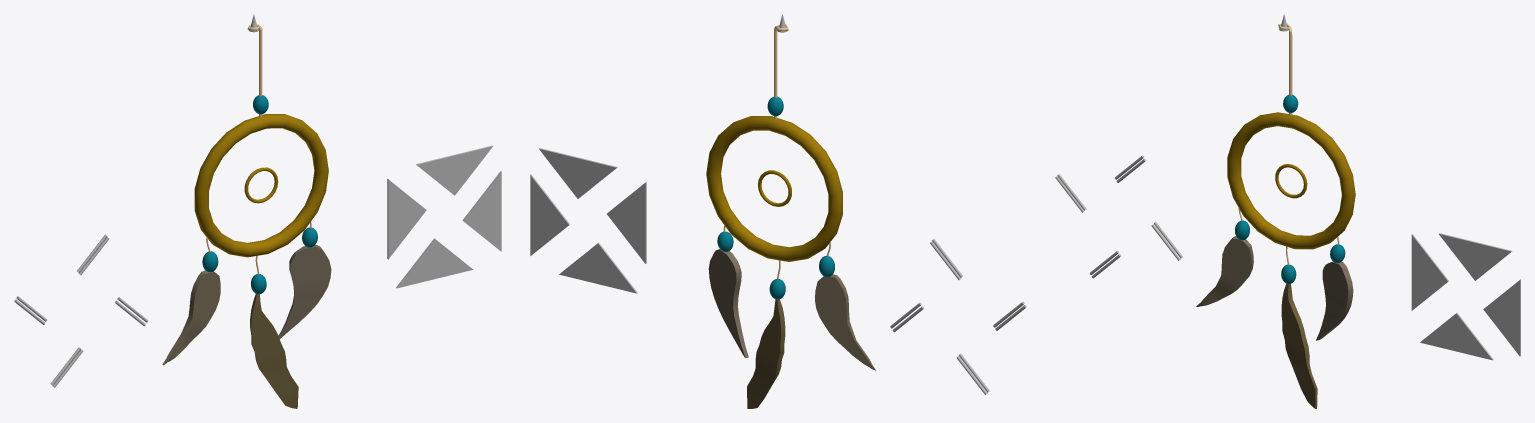
The model's file is Dreamcatcher.glb.
3 views of the same model, side by side, from view 1: azimuth 30°, elevation 25°; view 2: azimuth 150°, elevation 25°; view 3: azimuth 330°, elevation 25° (orthographic). The views are drawn at different scales.
Size of the model in its own units: 13.02 by 10.23 by 0.6139.
